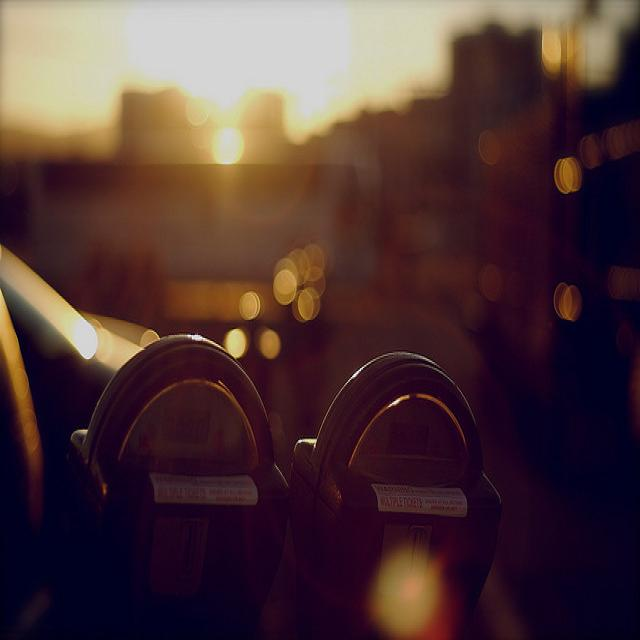parking meter: (60, 324, 298, 631), (291, 350, 510, 633)
